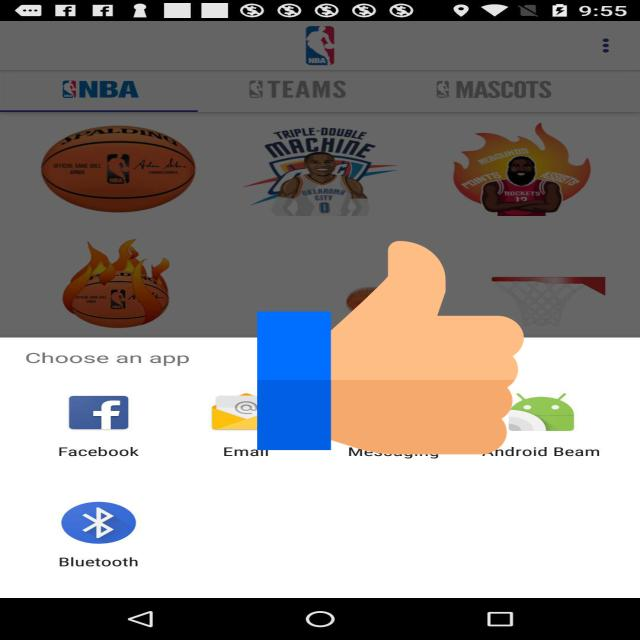privacy zuckering: (257, 236, 524, 460)
